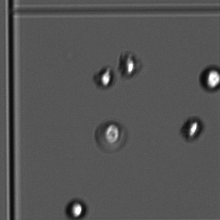Living Cell: (95, 119, 129, 152), (179, 113, 204, 142), (119, 51, 142, 80), (199, 63, 219, 92), (92, 64, 114, 89), (63, 198, 88, 218)
